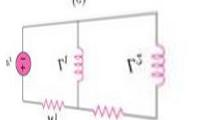inductor: (146, 40, 169, 90), (68, 43, 87, 83)
